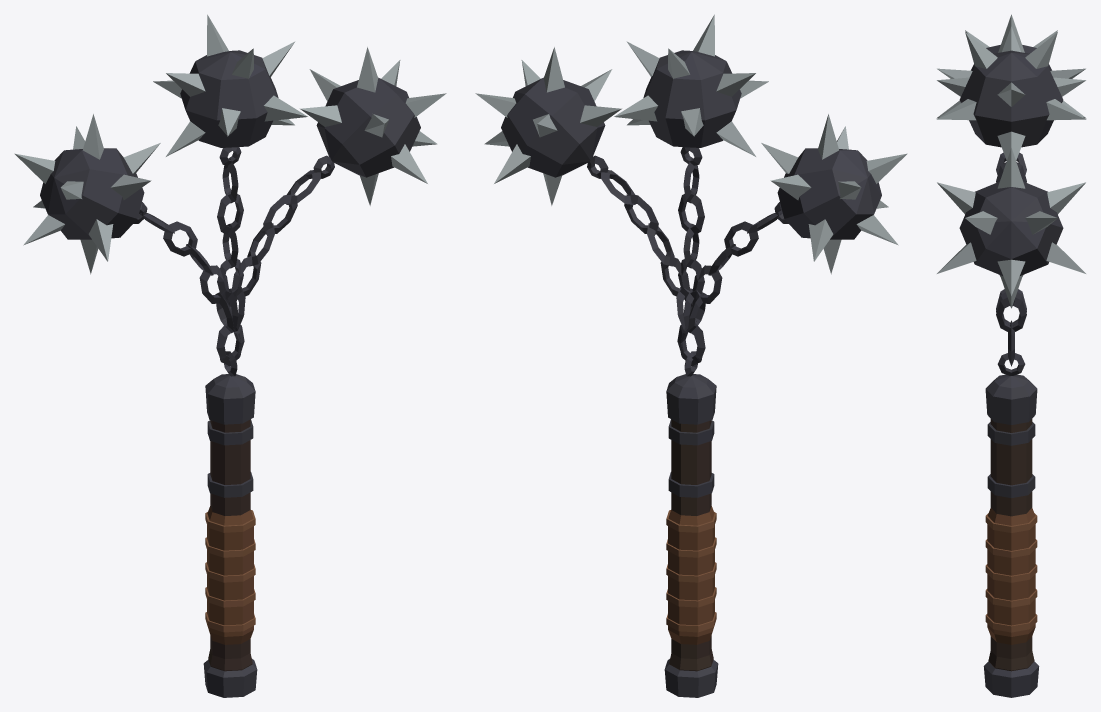
The model's file is weapon_flail_triple.glb.
3 views of the same model, side by side, from view 1: azimuth 30°, elevation 25°; view 2: azimuth 150°, elevation 25°; view 3: azimuth 270°, elevation 25° (orthographic).
Visible parts, largest first — view 1: weapon_flail_triple, weapon_flail_triple_ball3, weapon_flail_triple_ball, weapon_flail_triple_ball2, weapon_flail_triple_chain; view 2: weapon_flail_triple, weapon_flail_triple_ball3, weapon_flail_triple_ball, weapon_flail_triple_ball2, weapon_flail_triple_chain; view 3: weapon_flail_triple, weapon_flail_triple_ball, weapon_flail_triple_ball2, weapon_flail_triple_ball3, weapon_flail_triple_chain.
Boxes of the visible parts, left/top/right/bottom form: weapon_flail_triple: left=203, top=351, right=257, bottom=697; weapon_flail_triple_ball3: left=14, top=114, right=160, bottom=274; weapon_flail_triple_ball: left=300, top=47, right=446, bottom=205; weapon_flail_triple_ball2: left=153, top=14, right=307, bottom=165; weapon_flail_triple_chain: left=140, top=158, right=320, bottom=365; weapon_flail_triple: left=664, top=351, right=718, bottom=697; weapon_flail_triple_ball3: left=761, top=114, right=907, bottom=274; weapon_flail_triple_ball: left=475, top=47, right=621, bottom=205; weapon_flail_triple_ball2: left=614, top=14, right=768, bottom=165; weapon_flail_triple_chain: left=601, top=158, right=781, bottom=365; weapon_flail_triple: left=983, top=353, right=1039, bottom=697; weapon_flail_triple_ball: left=937, top=148, right=1085, bottom=308; weapon_flail_triple_ball2: left=936, top=26, right=1086, bottom=160; weapon_flail_triple_ball3: left=936, top=14, right=1086, bottom=118; weapon_flail_triple_chain: left=996, top=152, right=1026, bottom=366.
Size of the model in its own units: 0.8284 by 1.26 by 0.2603.
